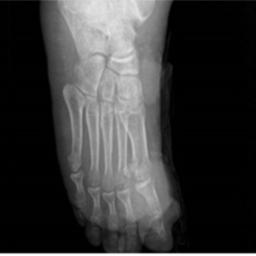cancer: (68, 61, 99, 97)
